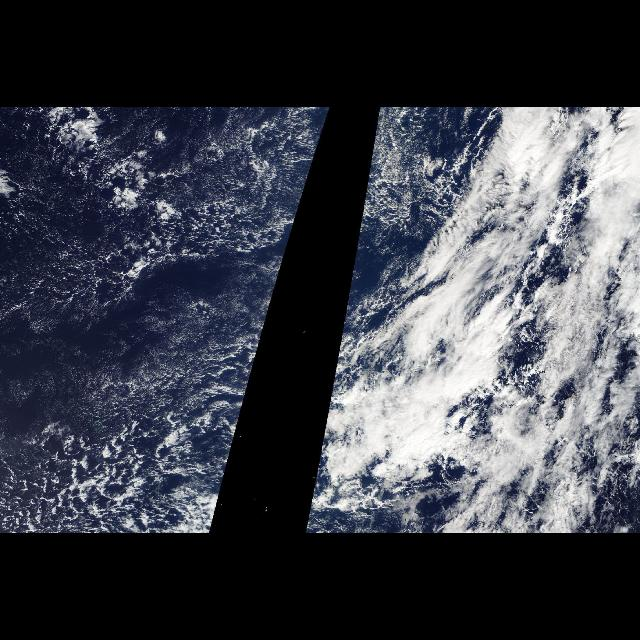Gravel: (0, 107, 266, 533)
Sugar: (1, 109, 328, 383), (361, 107, 483, 247)
